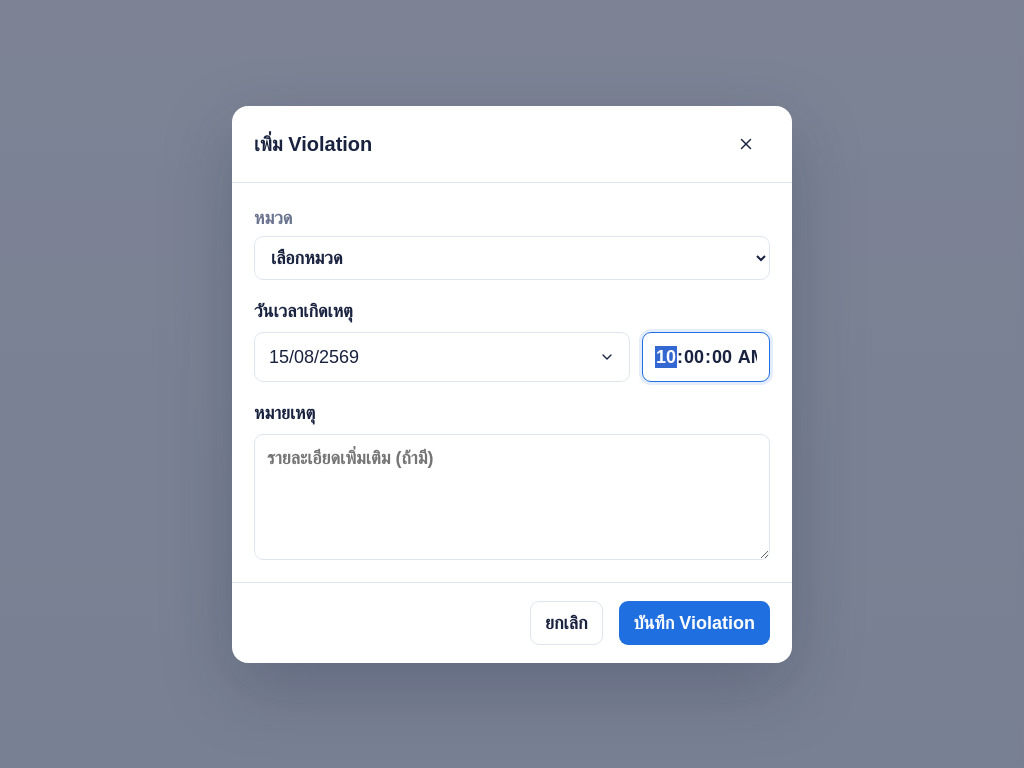
Scenario: CreateViolationModal › requires a category and offers only active categories
Expected: the dropdown labelled "หมวด" shows "เลือกหมวด", [254,236,770,280]
Click the button "บันทึก Violation". click: (694, 622)
box: [618,600,770,644]
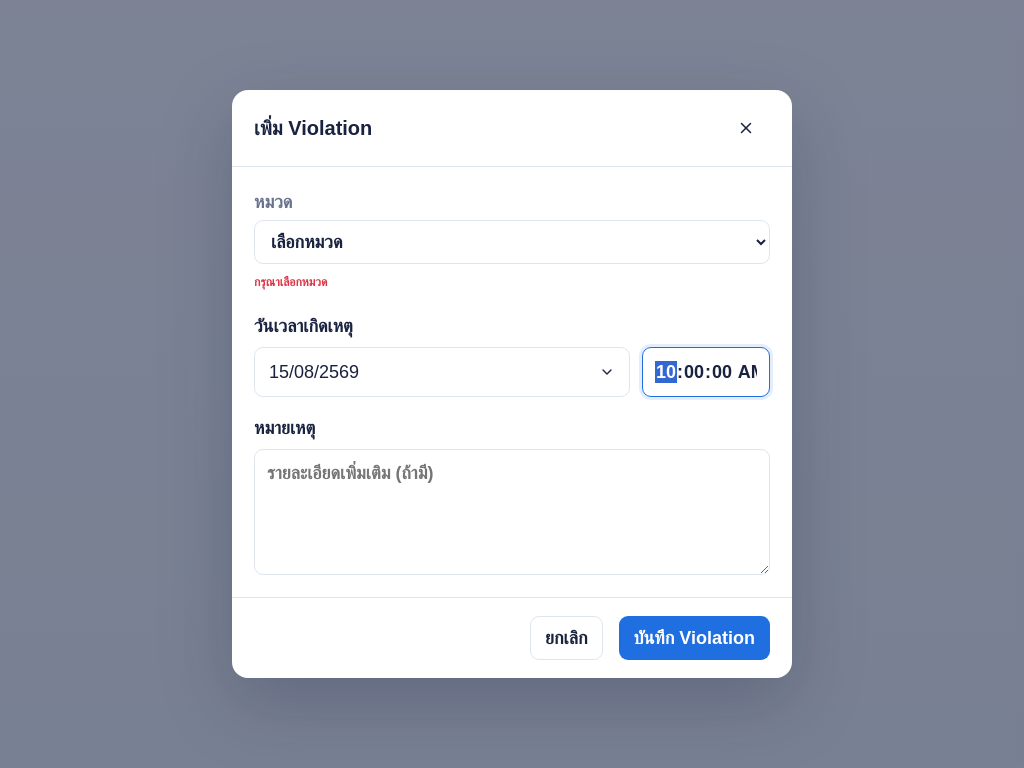
Result: the text "กรุณาเลือกหมวด" is shown at [254,275,327,289]
